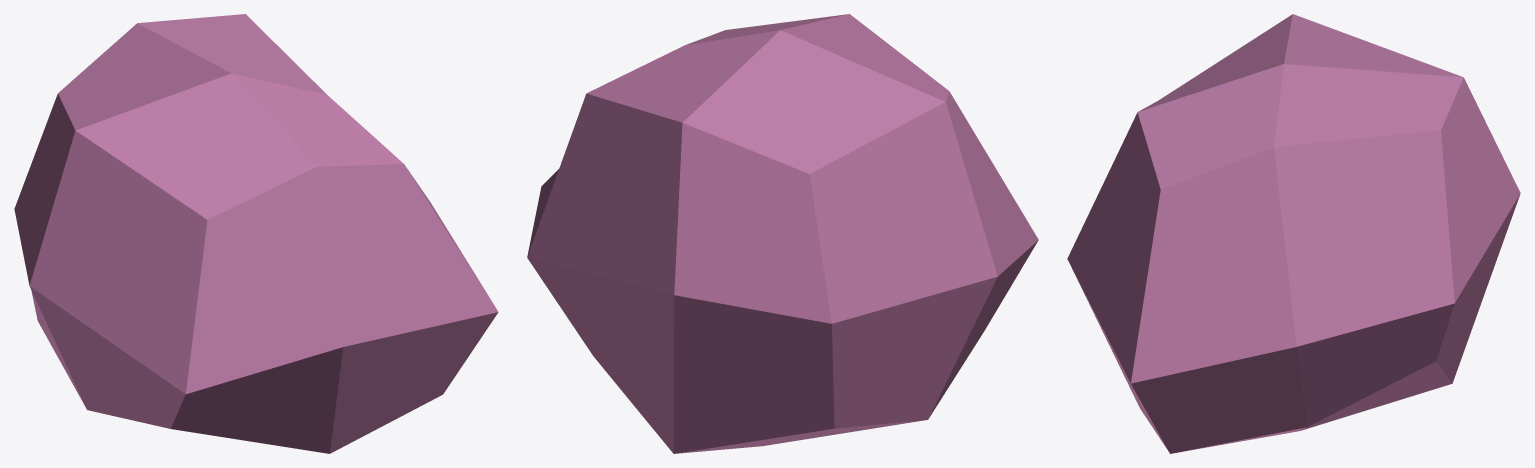
File: tas_buyuk.fbx
3 views of the same model, side by side, from view 1: azimuth 30°, elevation 25°; view 2: azimuth 150°, elevation 25°; view 3: azimuth 270°, elevation 25° (orthographic). The views are drawn at different scales.
Parts seen in each view (by area): view 1: Cube.008; view 2: Cube.008; view 3: Cube.008.
Part boxes in pixels (box(x1,y1,x2,y2)): Cube.008: box(14, 14, 498, 453); Cube.008: box(527, 14, 1038, 453); Cube.008: box(1067, 14, 1520, 453).
Size of the model in its own units: 607 by 526 by 595.
